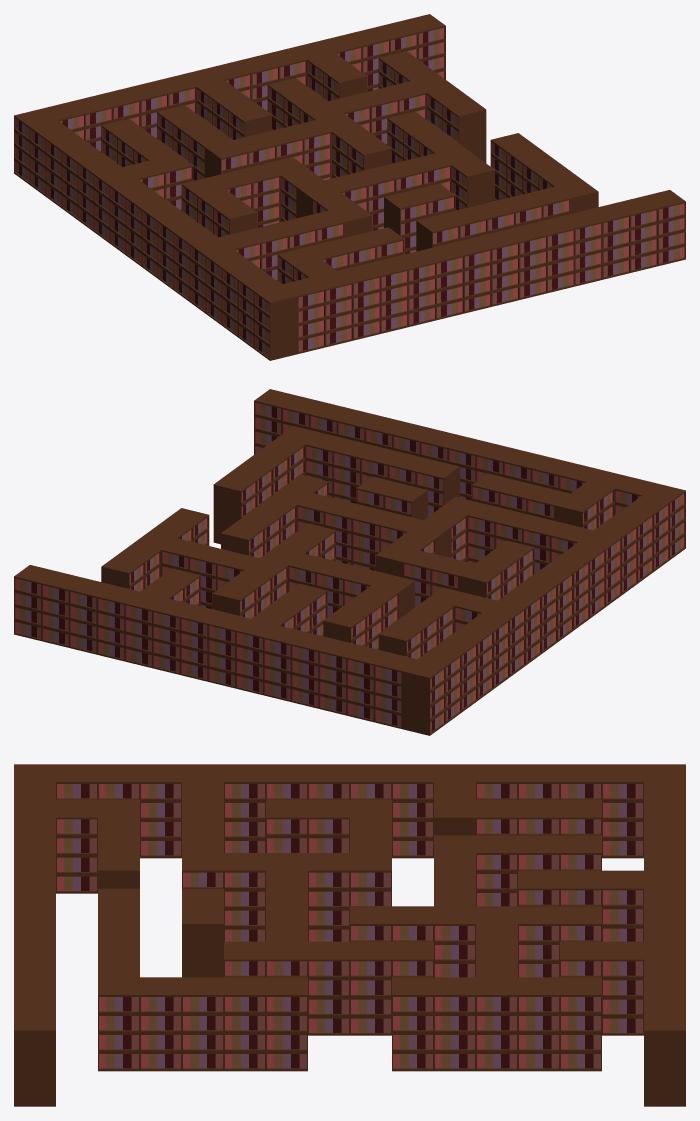
Rendered from maze.fbx.
3 views of the same model, one above another, from view 1: azimuth 30°, elevation 25°; view 2: azimuth 150°, elevation 25°; view 3: azimuth 270°, elevation 25° (orthographic). The views are drawn at different scales.
Visible parts, largest first — view 1: Plane.030; view 2: Plane.030; view 3: Plane.030.
Part boxes in pixels (x1,y1,x2,y2): Plane.030: [14, 14, 685, 360]; Plane.030: [14, 389, 685, 735]; Plane.030: [14, 764, 685, 1106].
Bounding box in the file's own units: 1500 × 200 × 1600.
2 materials, 1 textured.
